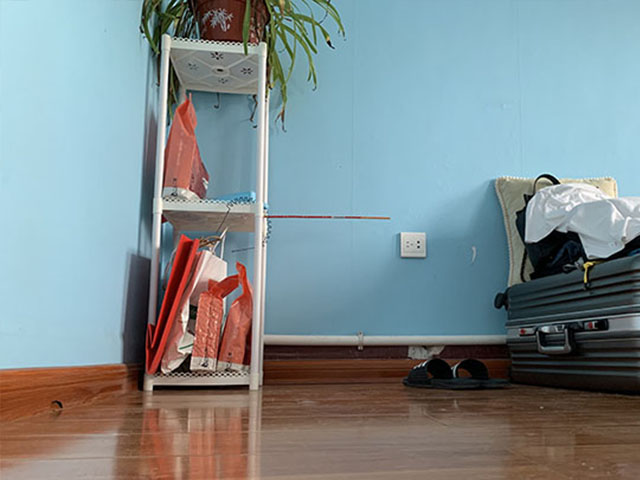slippers: (398, 356, 479, 390), (452, 350, 512, 391)
